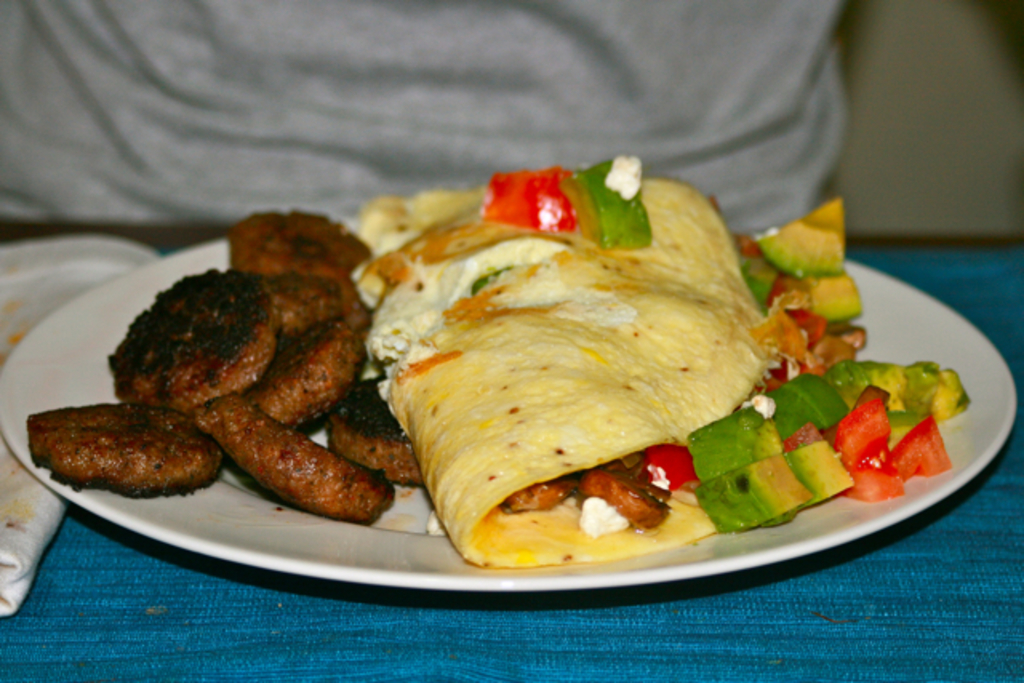taco: (350, 154, 779, 566)
